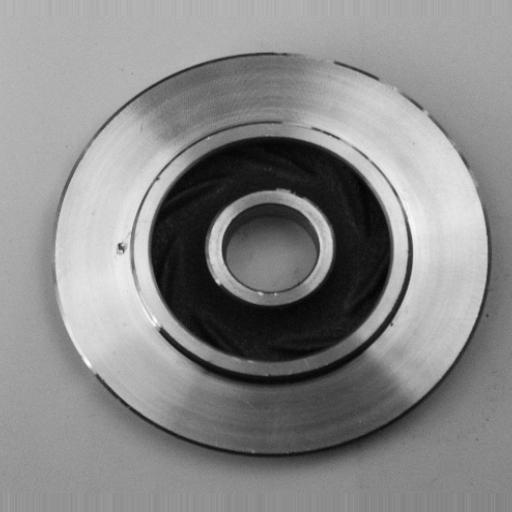crack: (110, 233, 132, 262)
scratch: (129, 271, 163, 342), (272, 115, 331, 136)
unpolished_casting: (48, 49, 490, 463)
